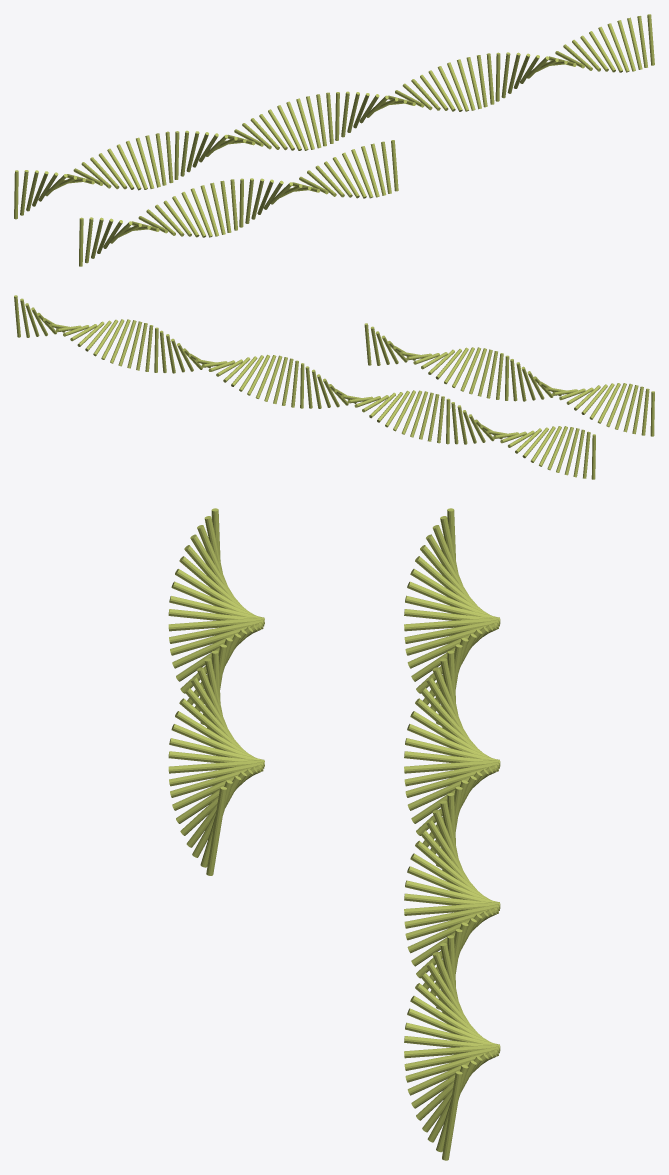
File: espiral.fbx
The picture shows the model from 3 angles, top to bottom: view 1: azimuth 30°, elevation 25°; view 2: azimuth 150°, elevation 25°; view 3: azimuth 270°, elevation 25°; orthographic projection. The views are drawn at different scales.
Parts seen in each view (by area): view 1: pCylinder104, pCylinder101; view 2: pCylinder104, pCylinder101; view 3: pCylinder104, pCylinder101.
Part boxes in pixels (x1,y1,x2,y2): pCylinder104: (14, 14, 654, 219); pCylinder101: (79, 140, 398, 266); pCylinder104: (14, 295, 595, 479); pCylinder101: (364, 323, 654, 436); pCylinder104: (404, 508, 500, 1160); pCylinder101: (168, 508, 264, 875).
Bounding box in the file's own units: 752 × 54.12 × 187.
